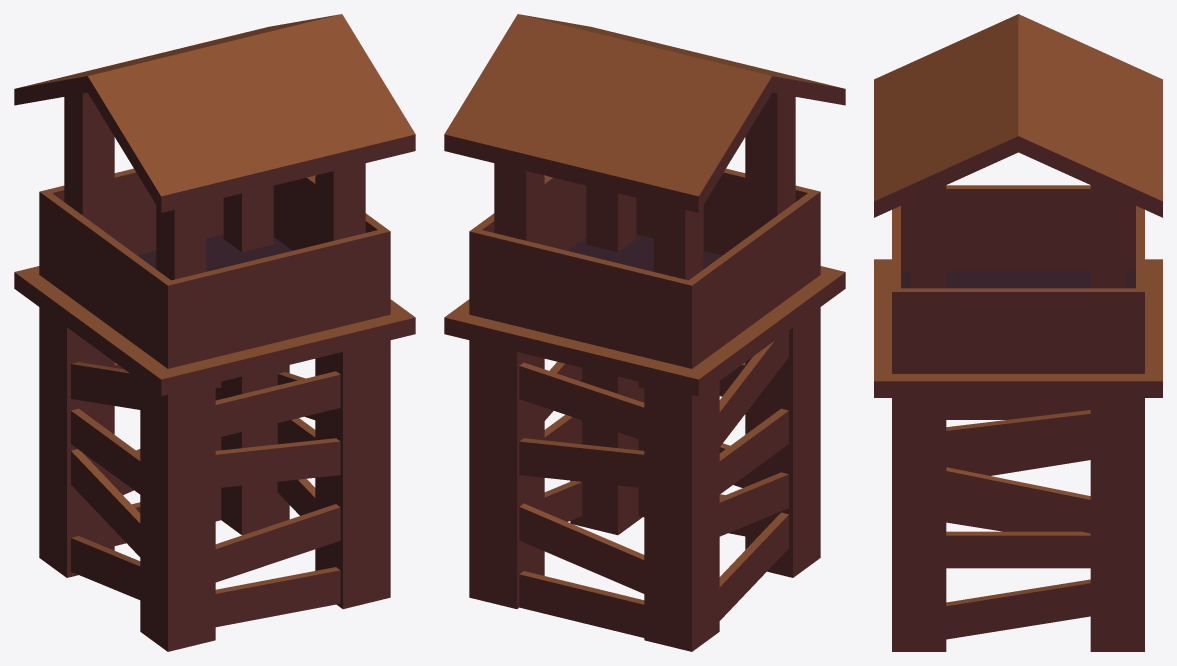
Rendered from ArcherTower.gltf.
3 views of the same model, side by side, from view 1: azimuth 30°, elevation 25°; view 2: azimuth 150°, elevation 25°; view 3: azimuth 270°, elevation 25° (orthographic).
Parts seen in each view (by area): view 1: roof, pilar3, cover2, pilar4, base, cover4, pilar1, pilar7, pilar2, plank6, plank14, plank2 (+12 smaller); view 2: roof, pilar1, cover1, pilar2, base, cover4, pilar3, pilar8, plank8, plank16, pilar4, plank4 (+12 smaller); view 3: roof, cover3, base, pilar2, pilar4, cover4, plank11, plank7, plank3, plank15, pilar5, pilar6 (+5 smaller).
Part boxes in pixels (bbox=[...]): roof: bbox=[14, 14, 415, 212]; pilar3: bbox=[140, 381, 215, 651]; cover2: bbox=[171, 230, 382, 366]; pilar4: bbox=[315, 340, 390, 608]; base: bbox=[14, 234, 415, 396]; cover4: bbox=[39, 190, 175, 368]; pilar1: bbox=[39, 307, 114, 577]; pilar7: bbox=[64, 93, 114, 238]; pilar2: bbox=[215, 365, 289, 535]; plank6: bbox=[215, 504, 340, 582]; plank14: bbox=[215, 371, 340, 437]; plank2: bbox=[215, 567, 340, 627]; roof: bbox=[444, 14, 845, 212]; pilar1: bbox=[644, 381, 719, 651]; cover1: bbox=[477, 230, 688, 366]; pilar2: bbox=[469, 340, 544, 608]; base: bbox=[444, 234, 845, 396]; cover4: bbox=[684, 190, 820, 368]; pilar3: bbox=[745, 307, 820, 577]; pilar8: bbox=[745, 93, 795, 238]; plank8: bbox=[519, 503, 644, 593]; plank16: bbox=[519, 362, 644, 440]; pilar4: bbox=[570, 368, 644, 535]; plank4: bbox=[519, 571, 644, 637]; roof: bbox=[874, 14, 1162, 217]; cover3: bbox=[892, 288, 1144, 373]; base: bbox=[874, 259, 1162, 397]; pilar2: bbox=[1090, 398, 1144, 651]; pilar4: bbox=[892, 398, 946, 651]; cover4: bbox=[901, 185, 1135, 270]; plank11: bbox=[946, 467, 1090, 533]; plank7: bbox=[946, 531, 1090, 568]; plank3: bbox=[946, 579, 1090, 639]; plank15: bbox=[946, 410, 1090, 463]; pilar5: bbox=[910, 185, 946, 288]; pilar6: bbox=[1090, 185, 1126, 288].
Bounding box in the file's own units: 1 × 2 × 1.
Materials: 1 (1 with a texture image).
